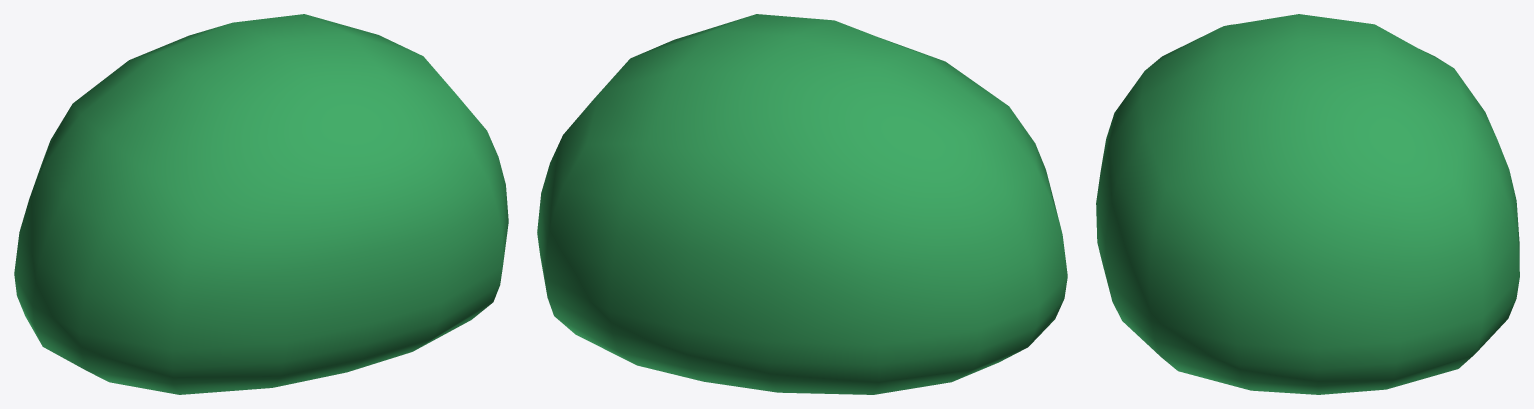
Rendered from Bush_D_01_LOD2.gltf.
The picture shows the model from 3 angles, left to right: view 1: azimuth 30°, elevation 25°; view 2: azimuth 150°, elevation 25°; view 3: azimuth 270°, elevation 25°; orthographic projection. The views are drawn at different scales.
Parts seen in each view (by area): view 1: Bush_D_01_LOD2_Cube.657; view 2: Bush_D_01_LOD2_Cube.657; view 3: Bush_D_01_LOD2_Cube.657.
Boxes of the visible parts, box(x1,y1,x2,y2) form: Bush_D_01_LOD2_Cube.657: box(14, 14, 508, 394); Bush_D_01_LOD2_Cube.657: box(537, 14, 1067, 394); Bush_D_01_LOD2_Cube.657: box(1096, 14, 1519, 394).
Bounding box in the file's own units: 4.72 × 2.83 × 3.84.
Materials: 1 (1 with a texture image).
